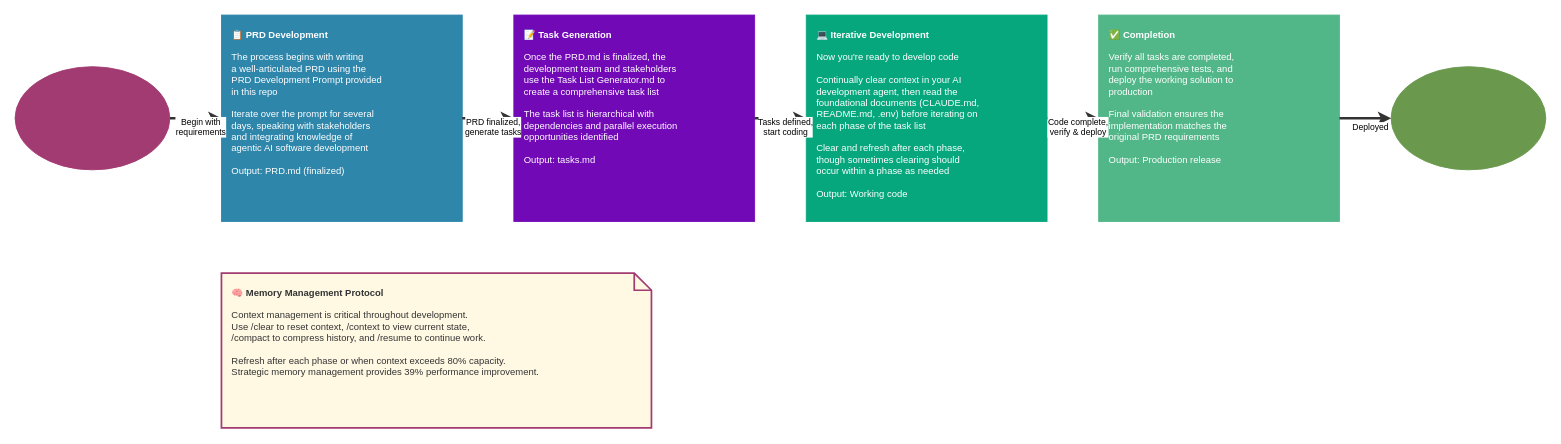
Some shapes in this 1561 by 444 pixel diagram are drawn without their labels. Here are the shapes that lost their labels. From the top down, the centre of each, then its label:
[92,118]: 🎯 Start: Project Concept
[1468,118]: 🎊 Success: Project Complete
